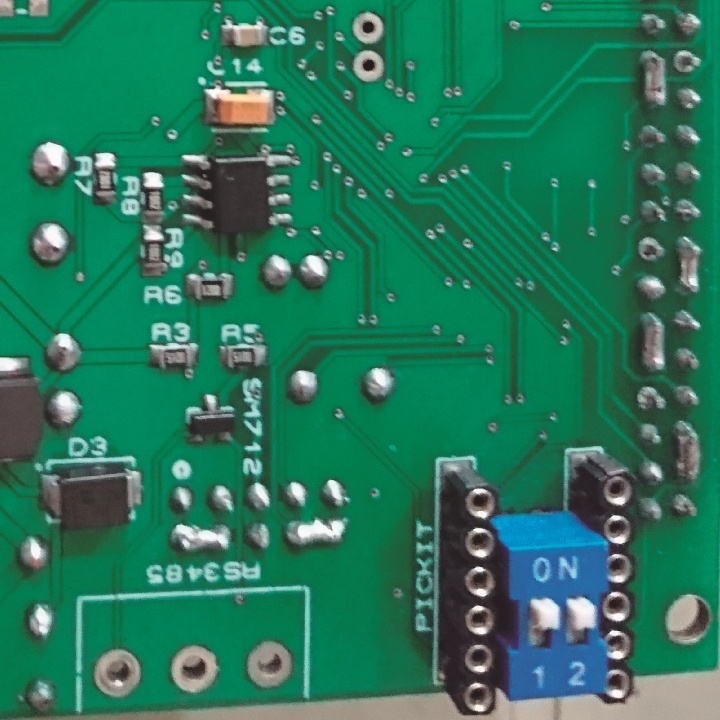F: (90, 646, 145, 700), (167, 643, 220, 696), (243, 639, 298, 689), (349, 9, 387, 44), (349, 49, 385, 83), (636, 383, 666, 414), (636, 234, 667, 263), (673, 49, 704, 76)
P: (283, 515, 349, 552), (169, 521, 232, 558), (672, 418, 705, 484), (639, 309, 666, 377), (637, 49, 667, 110), (676, 232, 703, 299)
